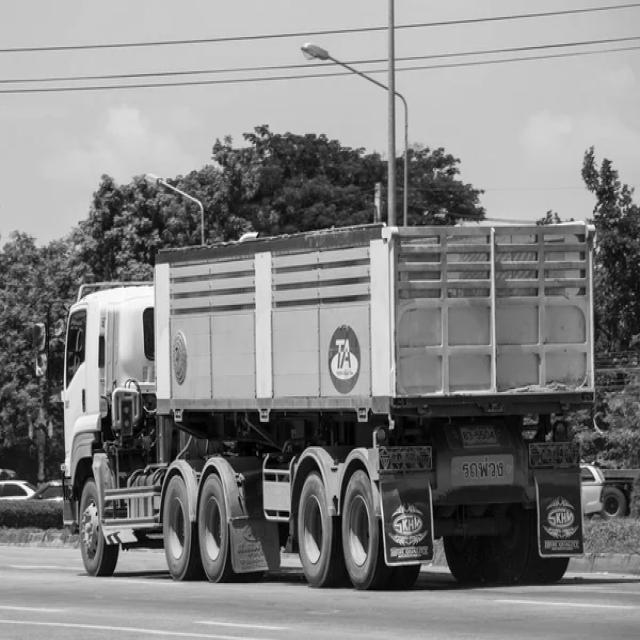Truck: (62, 224, 596, 588)
